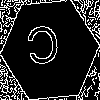C: (25, 25, 62, 74)
